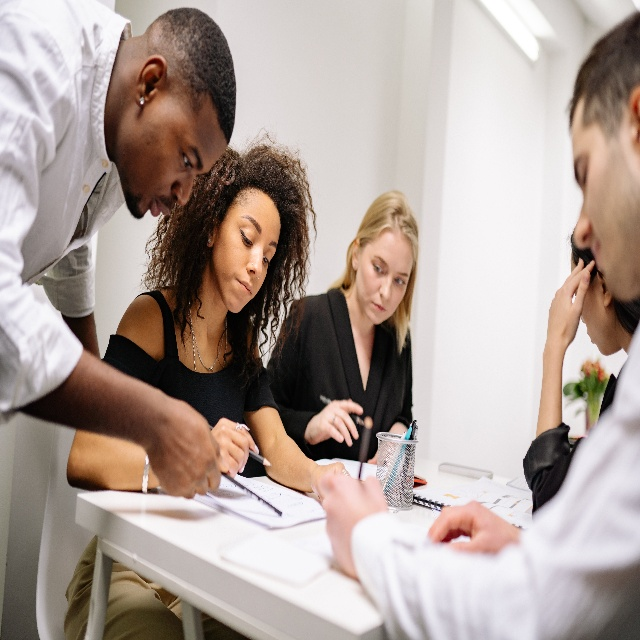Sin_guantes: (319, 466, 389, 584), (147, 398, 222, 502), (424, 498, 517, 559), (542, 254, 595, 357), (211, 414, 259, 481), (304, 396, 364, 449), (311, 459, 353, 505)
